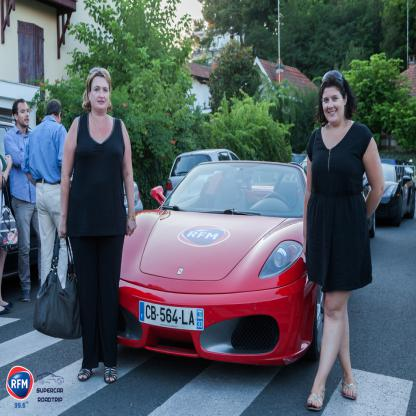Car: (118, 160, 323, 371), (288, 154, 376, 238), (163, 148, 243, 207), (365, 162, 416, 228)
